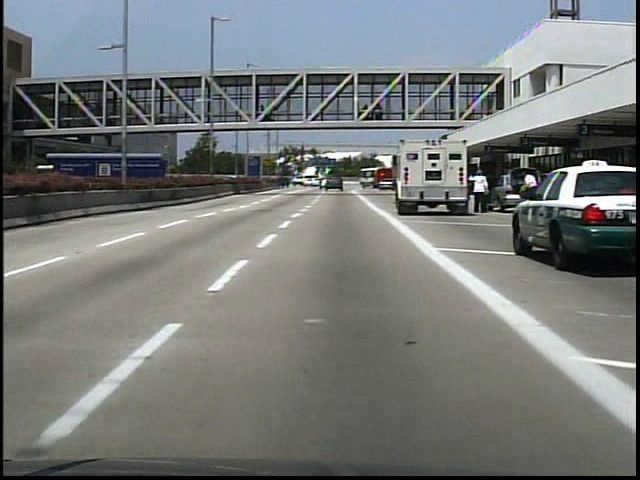person: (470, 163, 496, 216), (517, 167, 538, 211)
